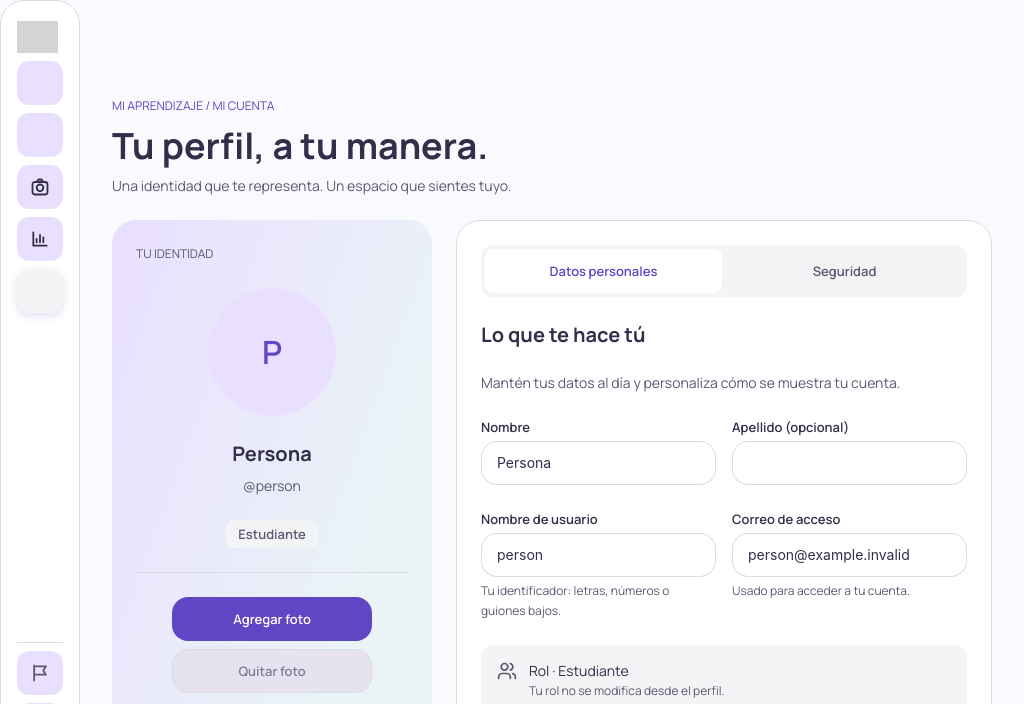
Test case: perfil Student confirma navegación con borrador y conserva cambios al cancelar
Replace the text in the field labelled "Nombre" with "Borrador": {"x": 598, "y": 464} [497,454,700,474]
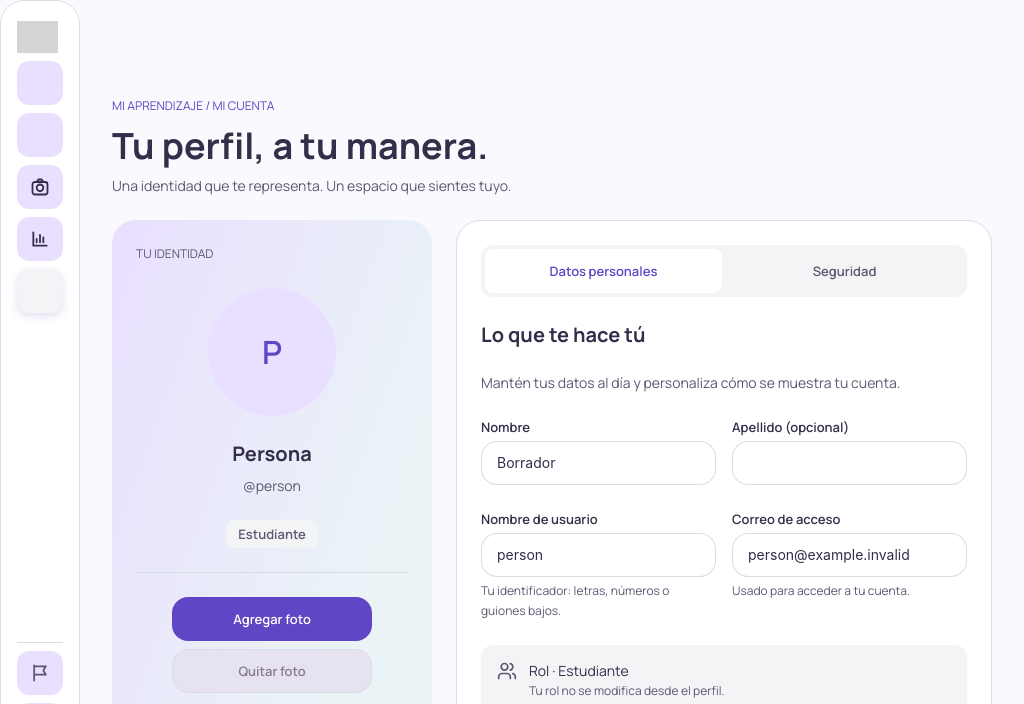
Click the link "Seguridad": {"x": 844, "y": 272} [813,262,876,280]
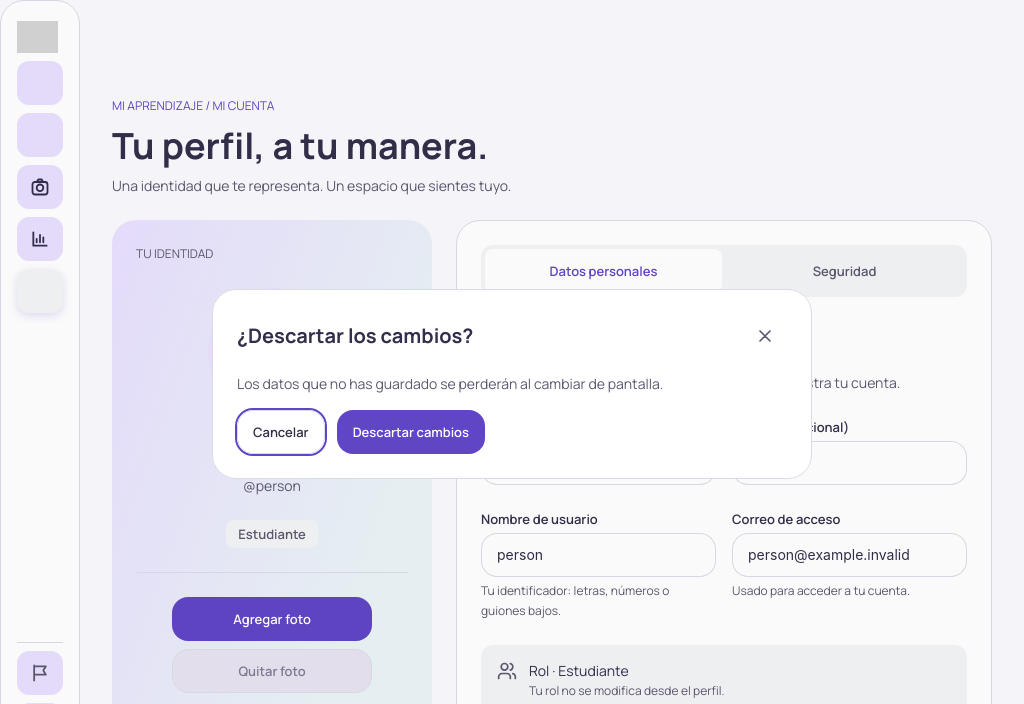
Click the button "Cancelar": {"x": 281, "y": 432} [237,410,325,454]
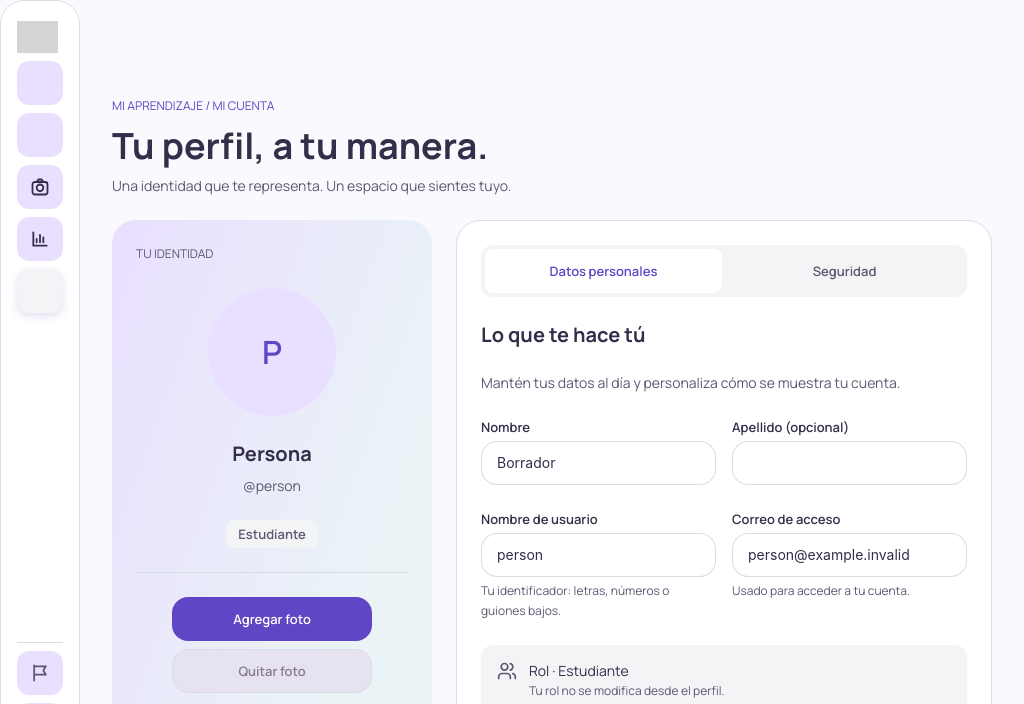
Click the link "Seguridad": {"x": 844, "y": 272} [813,262,876,280]
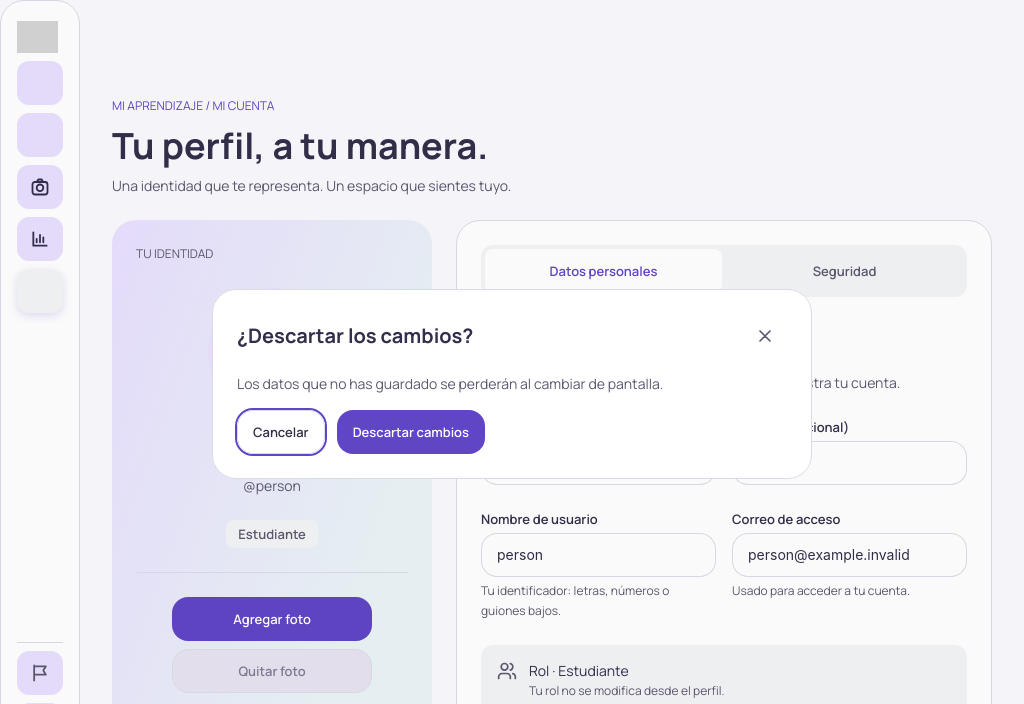
Click the button "Descartar cambios": {"x": 411, "y": 432} [337,410,485,454]
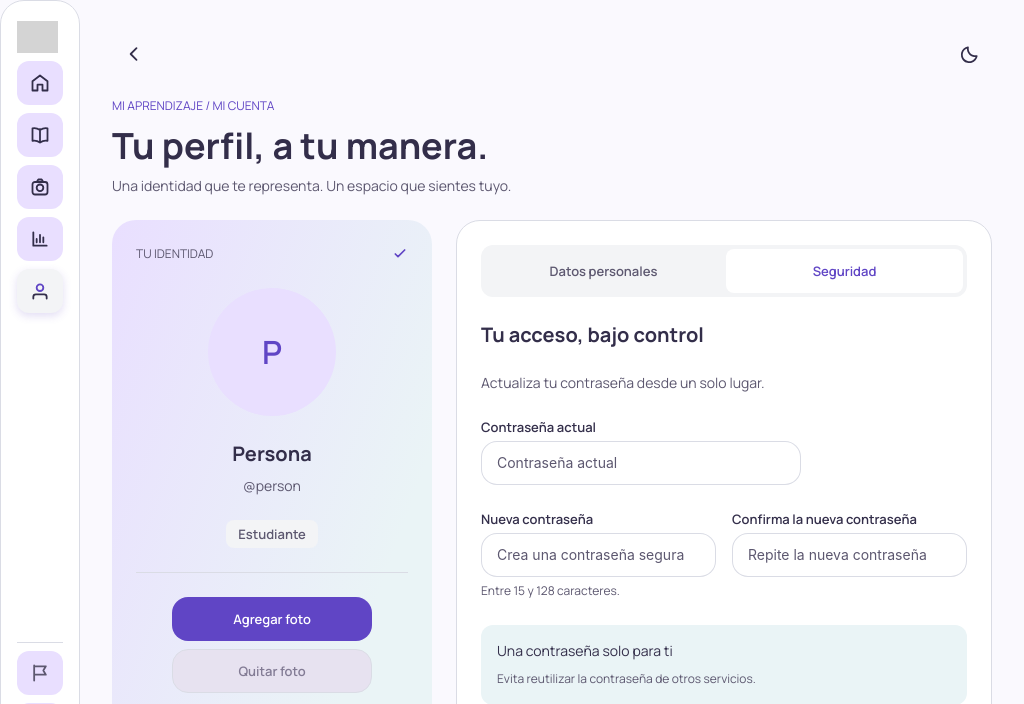
Expected: the password field labelled "Contraseña actual" is shown, [497,454,785,474]
